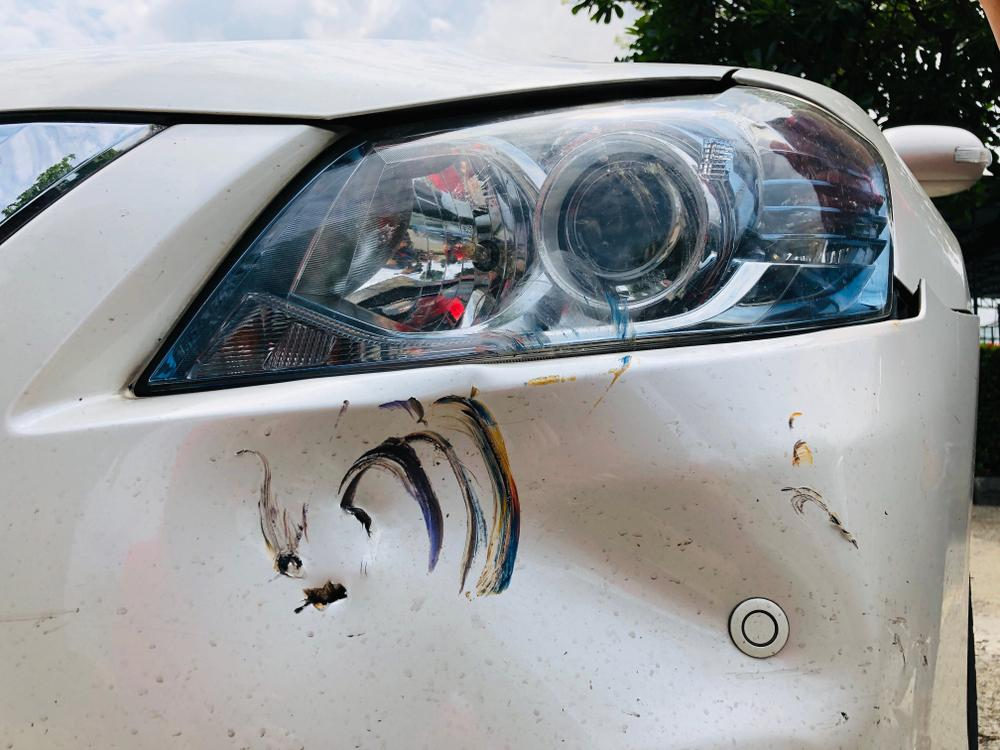dent: (287, 375, 866, 738)
scratch: (783, 410, 863, 555), (248, 447, 310, 582)
